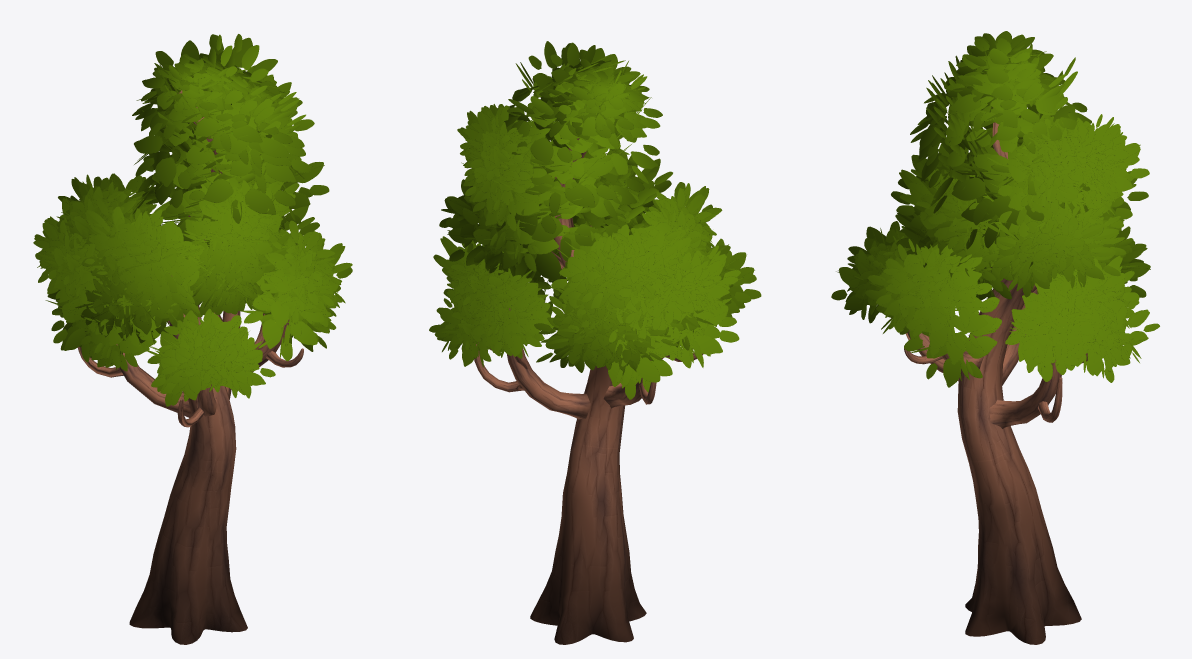
The model's file is CommonTree_2.gltf.
The picture shows the model from 3 angles, left to right: view 1: azimuth 30°, elevation 25°; view 2: azimuth 150°, elevation 25°; view 3: azimuth 270°, elevation 25°; orthographic projection. The views are drawn at different scales.
Parts seen in each view (by area): view 1: CommonTree_2; view 2: CommonTree_2; view 3: CommonTree_2.
Boxes of the visible parts, x1,y1,x2,y2 form: CommonTree_2: (33,34,352,644); CommonTree_2: (429,41,761,644); CommonTree_2: (831,31,1159,644).
Size of the model in its own units: 4.46 by 7.64 by 4.28.
2 materials, 2 textured.
